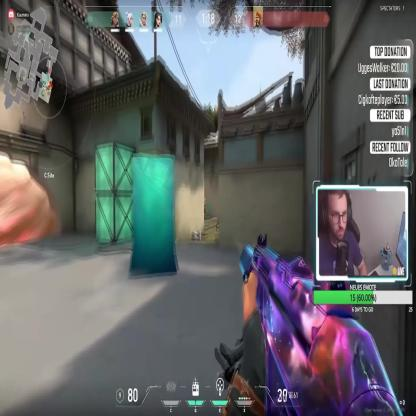enemy: (200, 196, 207, 219)
